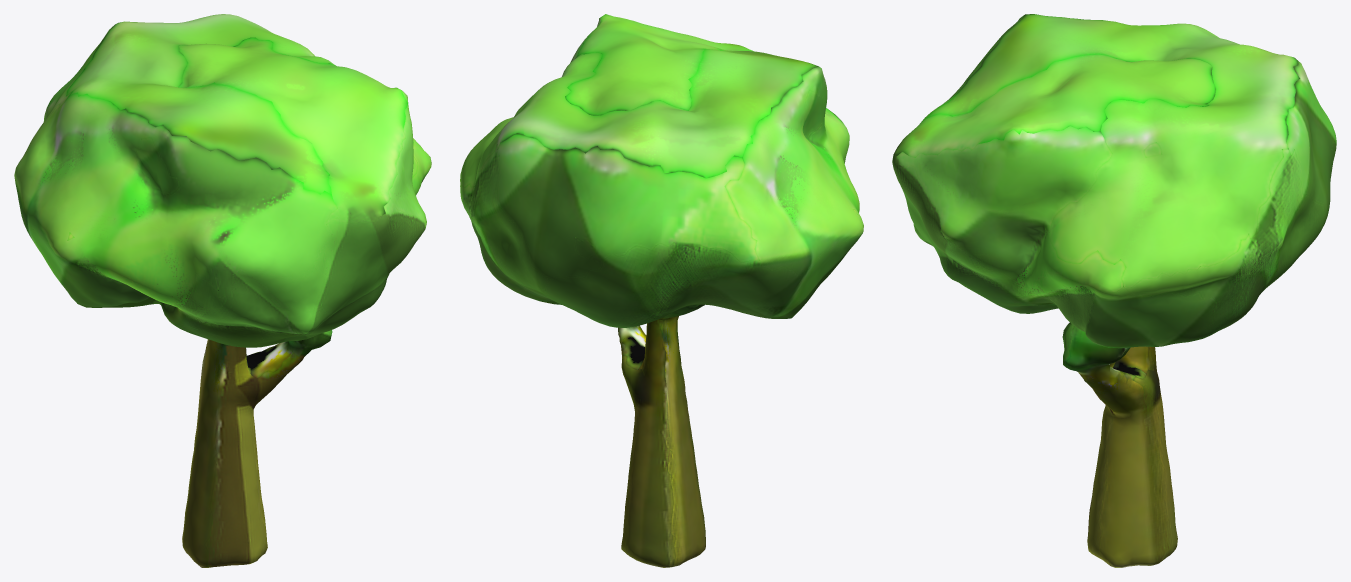
3 renders of one model, left to right at view 1: azimuth 30°, elevation 25°; view 2: azimuth 150°, elevation 25°; view 3: azimuth 270°, elevation 25°, orthographic. The views are drawn at different scales.
Visible parts, largest first — view 1: model.obj; view 2: model.obj; view 3: model.obj.
Part boxes in pixels (<box>): model.obj: <box>14,14,431,567</box>; model.obj: <box>460,14,863,567</box>; model.obj: <box>892,14,1336,567</box>.
Bounding box in the file's own units: 0.8458 × 1.05 × 0.8505.
1 material, 1 textured.
